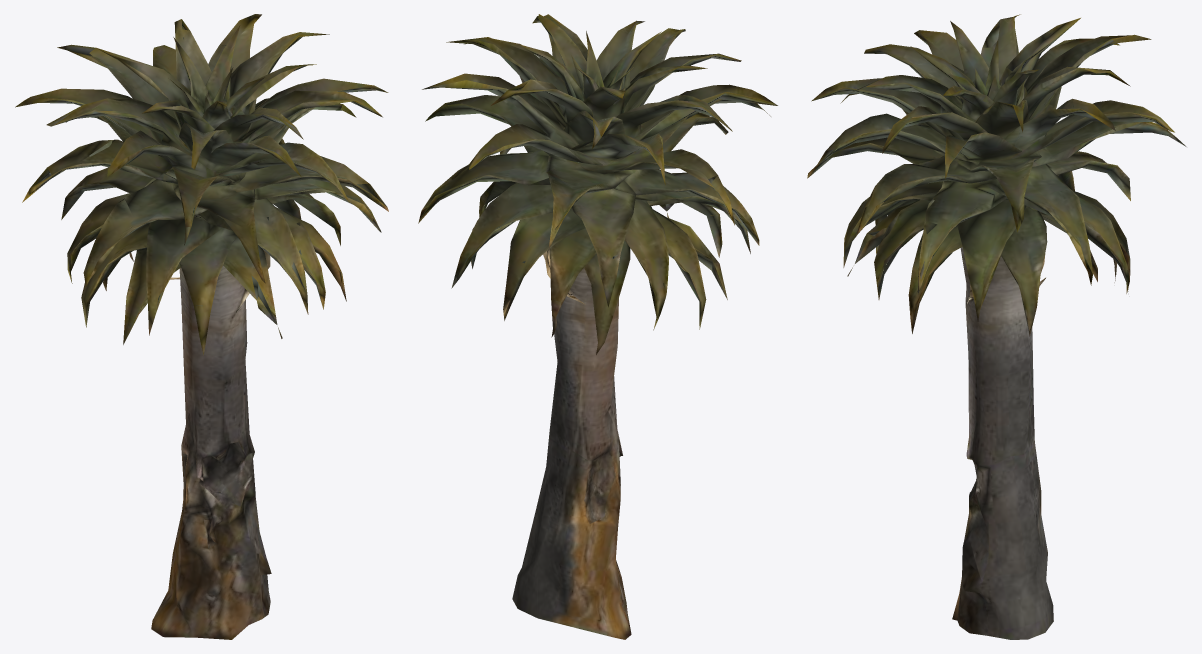
The model's file is ph_quiver_tree_02.glb.
3 views of the same model, side by side, from view 1: azimuth 30°, elevation 25°; view 2: azimuth 150°, elevation 25°; view 3: azimuth 270°, elevation 25° (orthographic).
Visible parts, largest first — view 1: quiver_tree_02; view 2: quiver_tree_02; view 3: quiver_tree_02.
Boxes of the visible parts, bbox=[...] form: quiver_tree_02: bbox=[15, 14, 388, 639]; quiver_tree_02: bbox=[418, 14, 777, 639]; quiver_tree_02: bbox=[807, 14, 1186, 639].
Bounding box in the file's own units: 0.8554 × 1.46 × 0.8686.
Materials: 1 (1 with a texture image).
